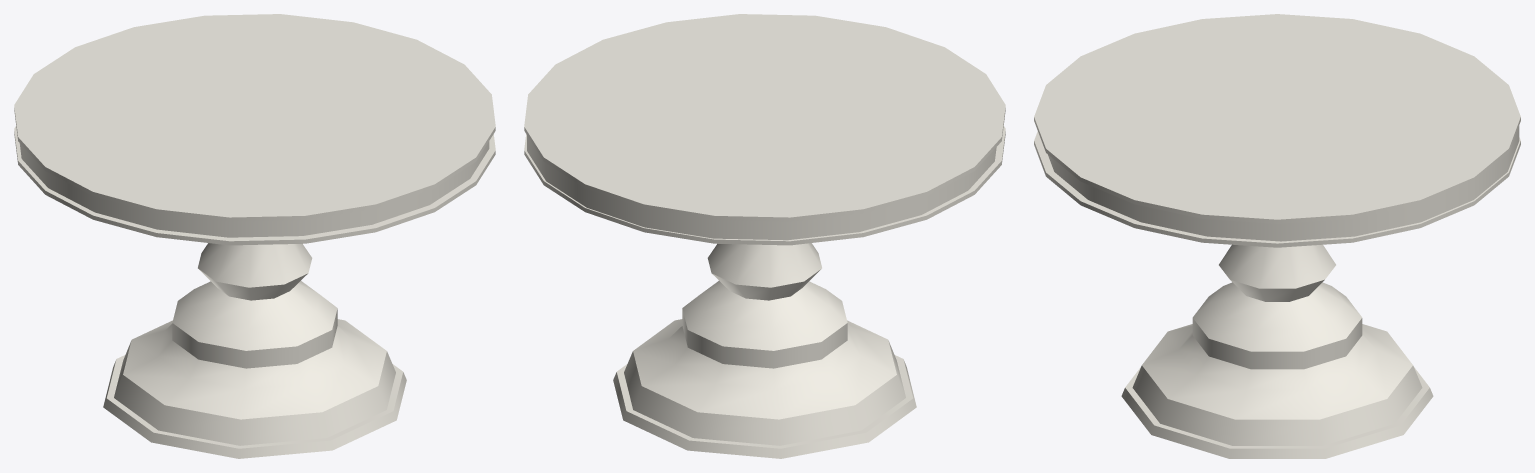
The model's file is pk_tround_white.glb.
3 views of the same model, side by side, from view 1: azimuth 30°, elevation 25°; view 2: azimuth 150°, elevation 25°; view 3: azimuth 270°, elevation 25° (orthographic).
Visible parts, largest first — view 1: pk_tround_white; view 2: pk_tround_white; view 3: pk_tround_white.
Part boxes in pixels (x1,y1,x2,y2): pk_tround_white: (14,14,495,458); pk_tround_white: (524,14,1005,458); pk_tround_white: (1034,14,1520,458).
Size of the model in its own units: 1.2 by 0.76 by 1.2.
Materials: 1 (1 with a texture image).
